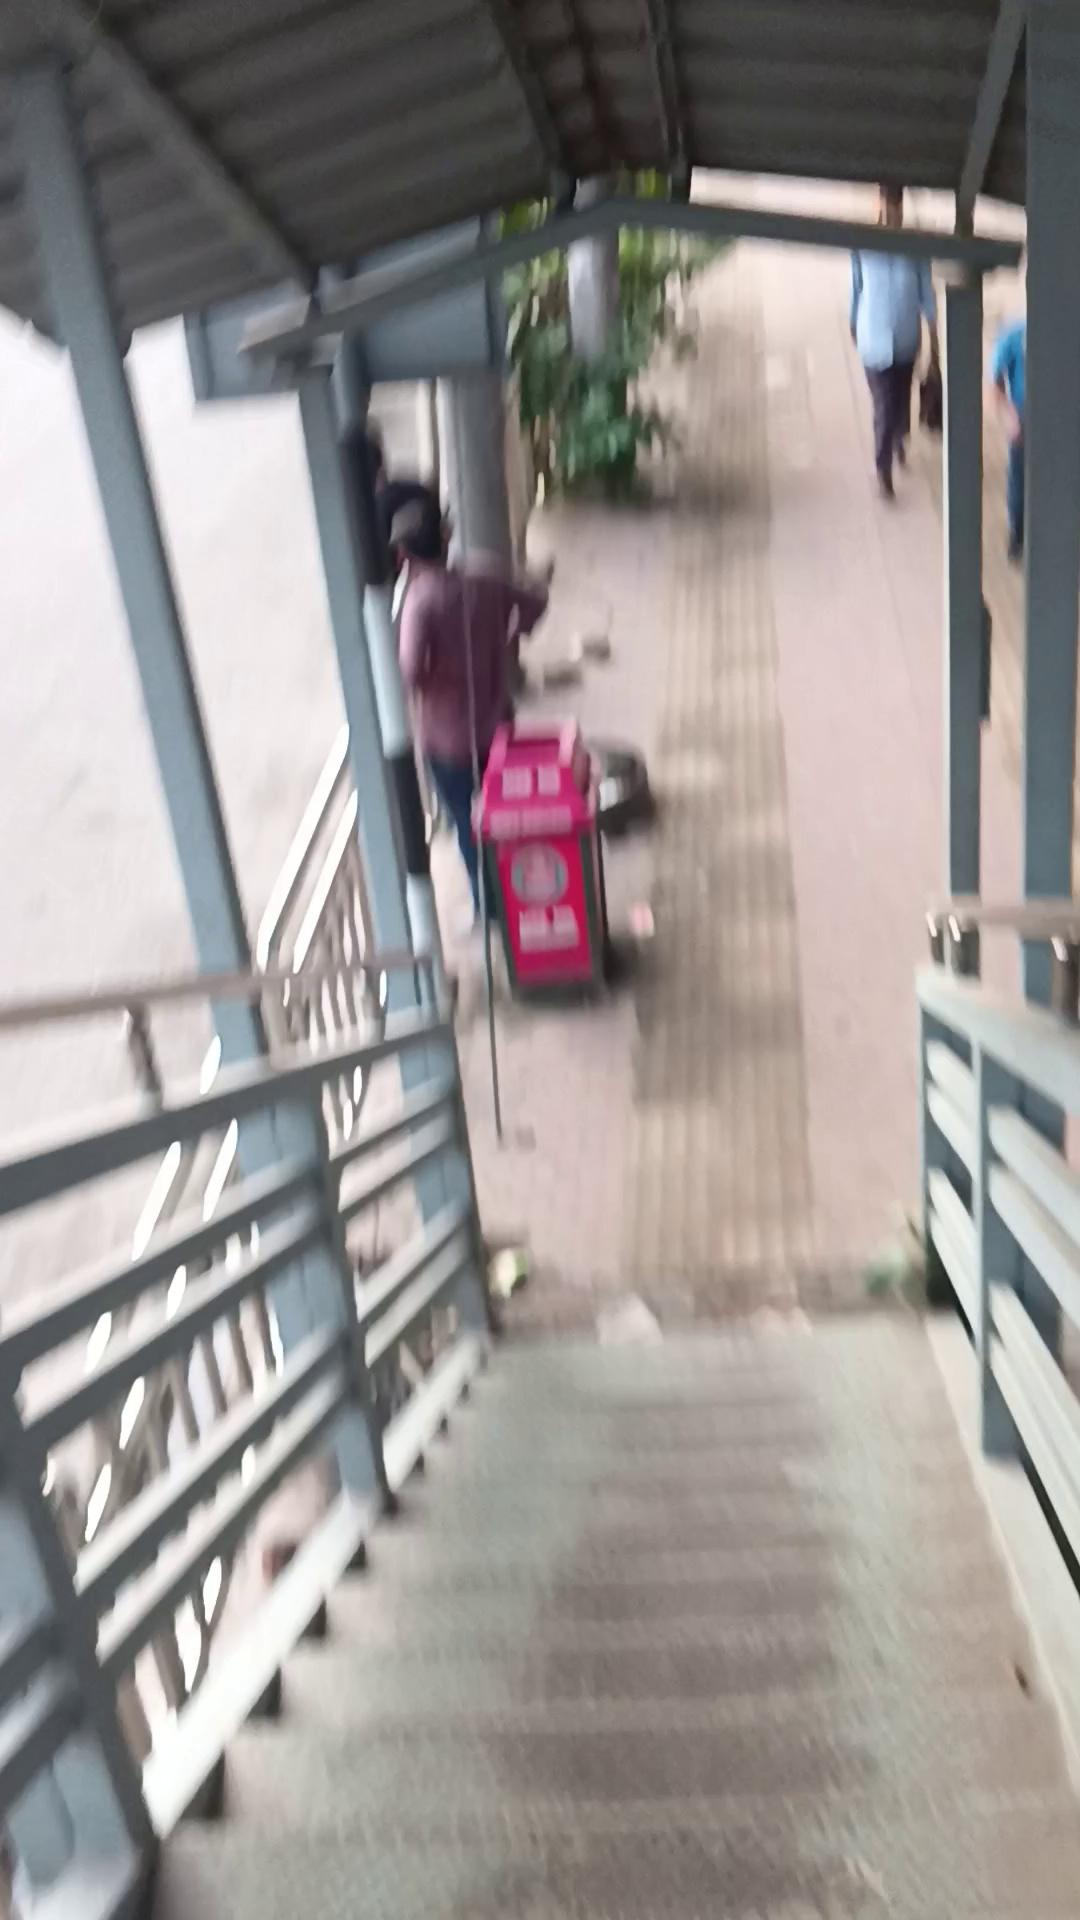Dog: (0, 1208, 1069, 1920)
Garbage: (479, 692, 634, 1014)
Muddy road: (382, 491, 553, 923), (847, 193, 942, 498), (990, 322, 1026, 564)
